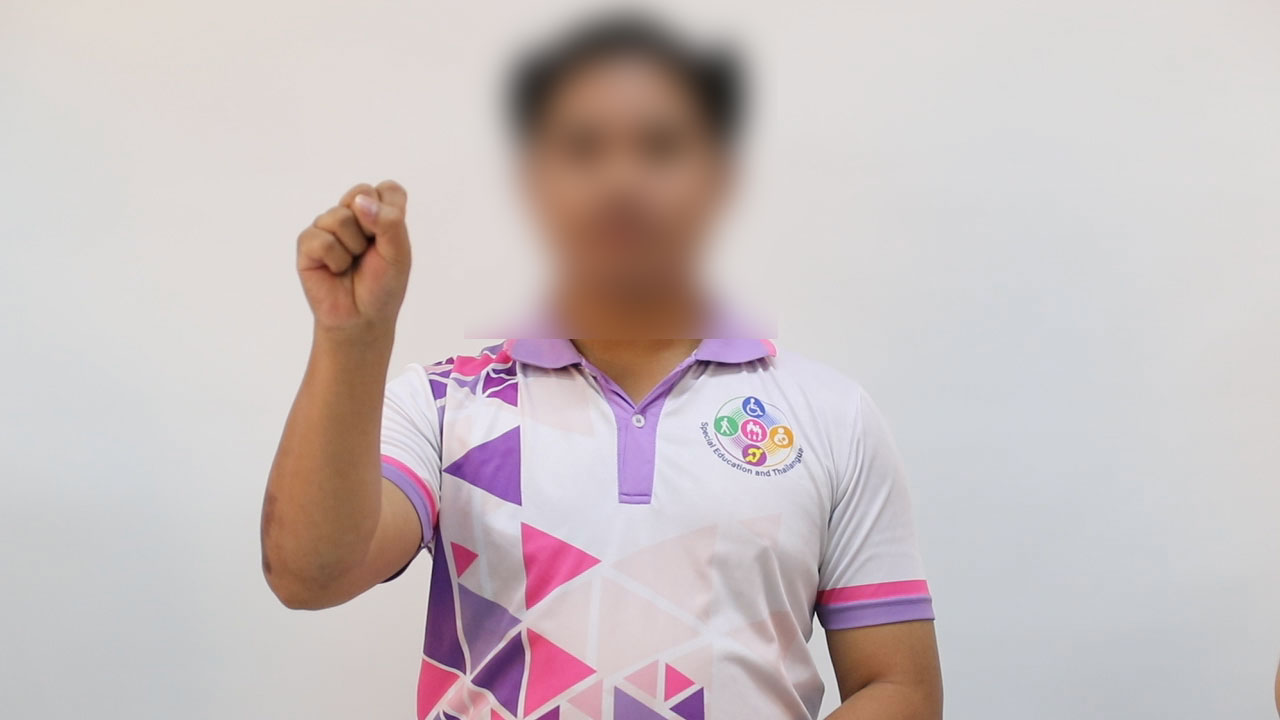sor: (292, 154, 423, 335)
